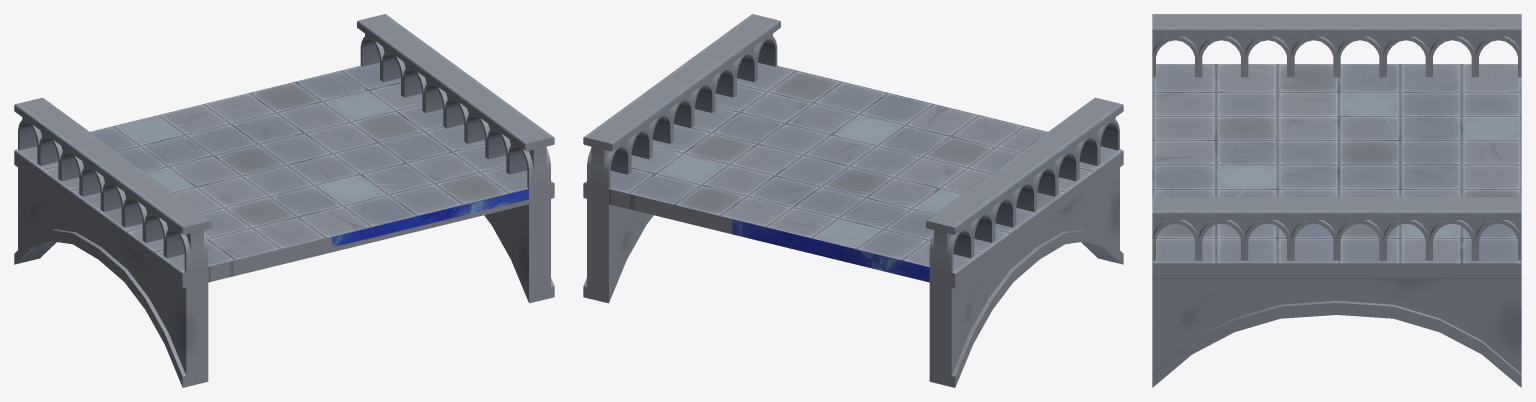
Rendered from Bridge_L_01.fbx.
3 renders of one model, left to right at view 1: azimuth 30°, elevation 25°; view 2: azimuth 150°, elevation 25°; view 3: azimuth 270°, elevation 25°, orthographic. The views are drawn at different scales.
Visible parts, largest first — view 1: Bridge_L_01; view 2: Bridge_L_01; view 3: Bridge_L_01.
Part boxes in pixels (<box>): Bridge_L_01: <box>14,14,554,387</box>; Bridge_L_01: <box>583,14,1123,387</box>; Bridge_L_01: <box>1152,14,1521,387</box>.
Size of the model in its own units: 1020 by 420 by 800.
Materials: 1 (1 with a texture image).
